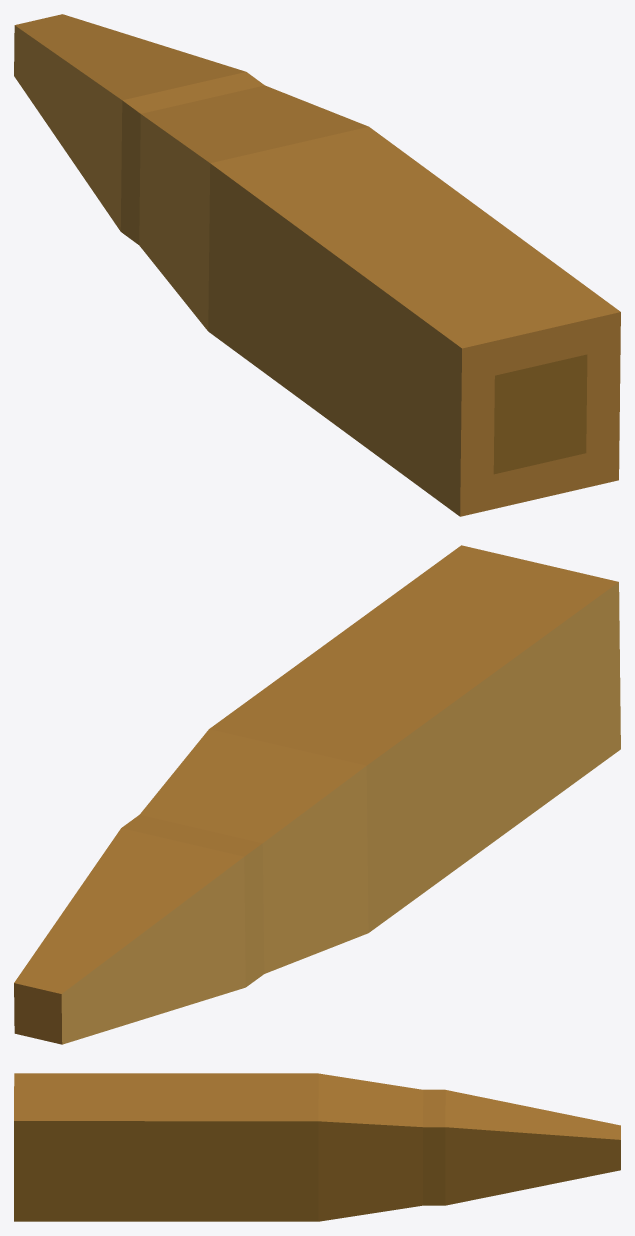
Rendered from Ammo_Rifle.fbx.
3 renders of one model, top to bottom at view 1: azimuth 30°, elevation 25°; view 2: azimuth 150°, elevation 25°; view 3: azimuth 270°, elevation 25°, orthographic. The views are drawn at different scales.
Parts seen in each view (by area): view 1: Ammo_Rifle; view 2: Ammo_Rifle; view 3: Ammo_Rifle.
Boxes of the visible parts, x1=… form: Ammo_Rifle: x1=14, y1=14, x2=620, y2=516; Ammo_Rifle: x1=14, y1=545, x2=620, y2=1044; Ammo_Rifle: x1=14, y1=1073, x2=620, y2=1221.
Bounding box in the file's own units: 6.74 × 6.77 × 36.41.
